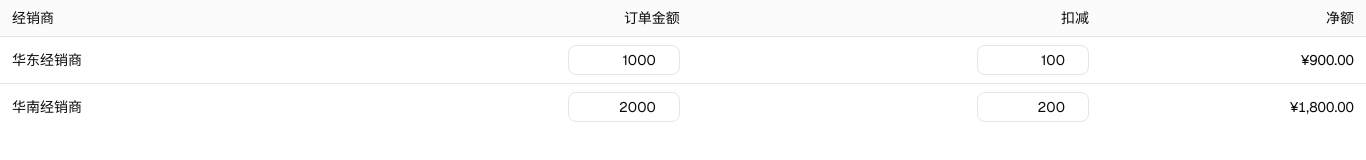
Test: ReconciliationLineEditor › recalculates netAmount when editing deduction
The width and height of the screenshot is (1366, 160).
Replace the text in the number field named "扣减" in the row of "华东经销商" with "300" at (1033, 60), box x1=977 y1=45 x2=1089 y2=75
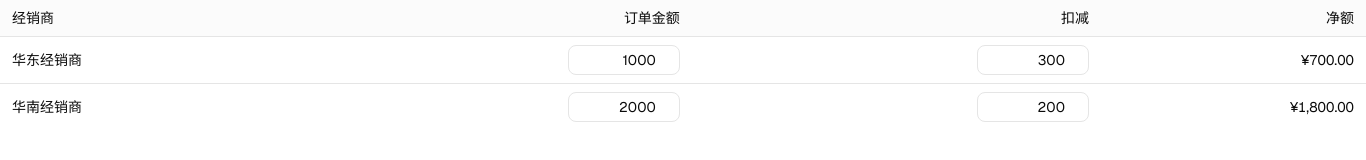
Expected: the cell "¥700.00" is shown, x1=1101 y1=36 x2=1365 y2=84
